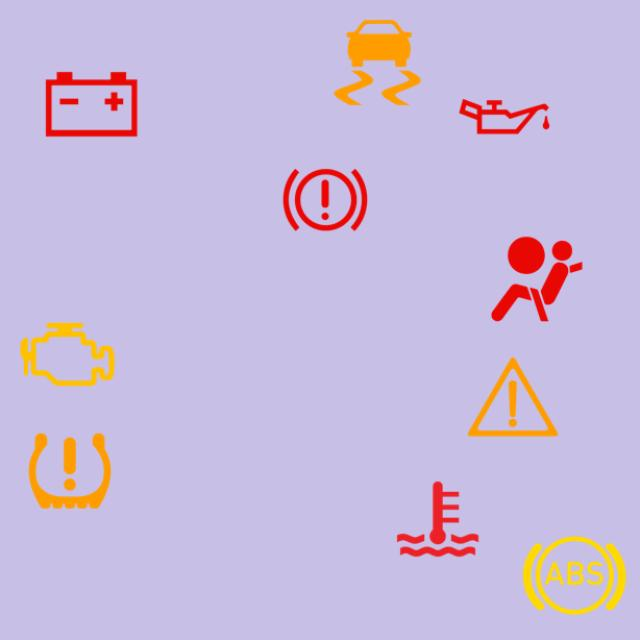Anti Lock Braking System: (518, 520, 630, 632)
Braking System Issue: (269, 144, 381, 256)
Charging System Issue: (36, 48, 148, 160)
Check Engine: (12, 298, 124, 411)
Electronic Stability Problem -ESP-: (322, 7, 434, 118)
Engine Overheating Warning Light: (382, 463, 494, 575)
Low Engine Oil Warning Light: (448, 61, 560, 172)
Low Tire Pressure Warning Light: (14, 415, 126, 527)
Master warning light: (457, 341, 569, 453)
SRS-Airbag: (481, 224, 593, 336)
